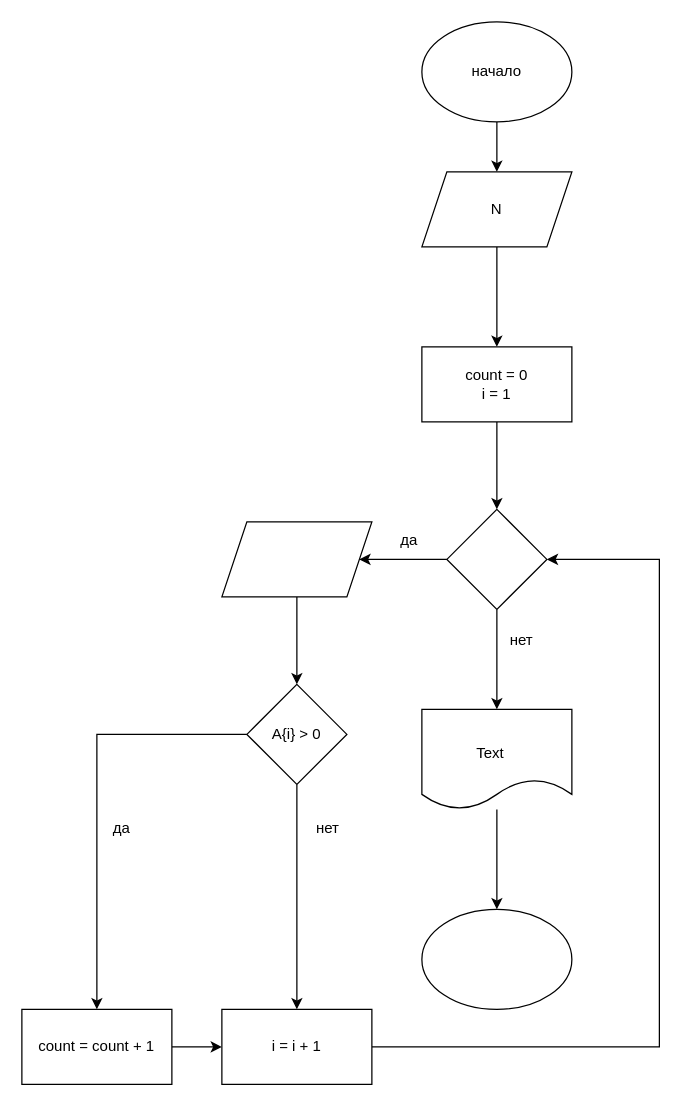
The diagram is 691 pixels wide and 1106 high, and some of its shapes have lost their labels. The shapes that lost their labels are listed below. From the top down, each one's box as (x1, y1, x2, y2) in pixels, then its label:
(221, 521, 372, 597): A{i}
(446, 508, 547, 609): i<=N
(421, 908, 572, 1009): конец
